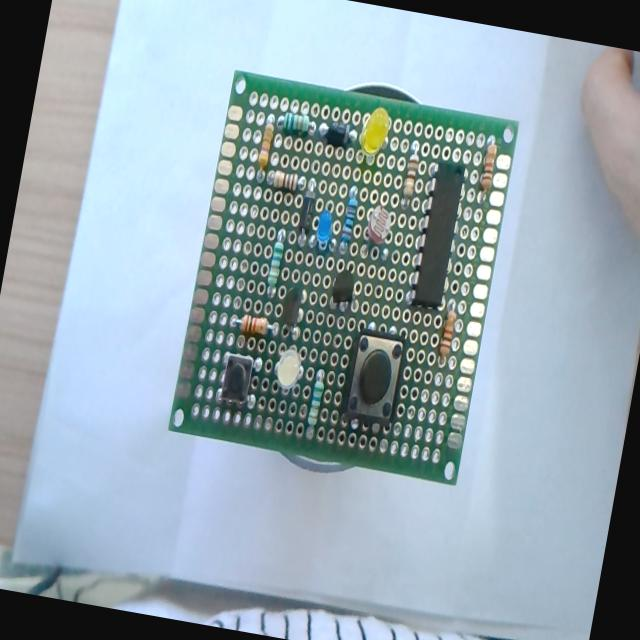IC: (410, 164, 470, 313)
cds: (362, 202, 393, 244)
diode: (298, 178, 318, 233), (320, 118, 354, 146)
led: (357, 104, 393, 158), (307, 208, 336, 264), (272, 344, 304, 394)
resistor: (232, 312, 278, 340), (339, 194, 359, 250), (306, 374, 326, 425), (438, 307, 458, 358), (478, 142, 498, 192), (266, 238, 284, 291), (256, 122, 274, 171), (280, 110, 310, 136), (402, 153, 419, 198), (270, 168, 299, 192)
switch: (344, 330, 406, 426), (217, 352, 254, 406)
transistor: (328, 263, 356, 311), (280, 284, 302, 328)
